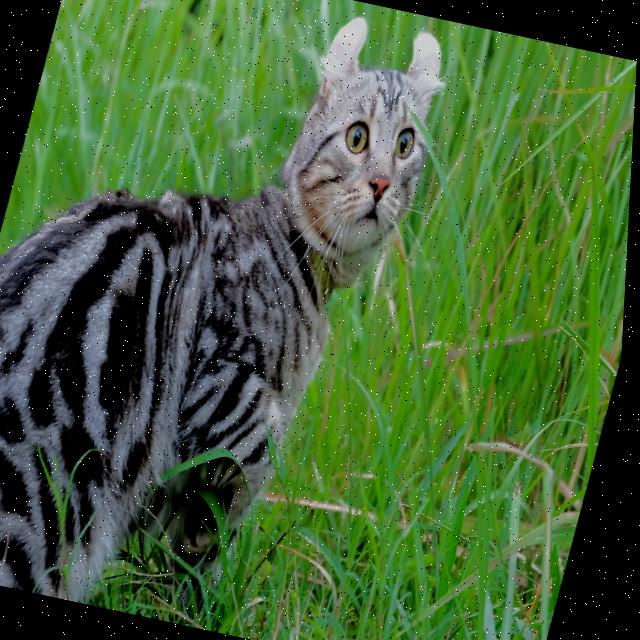American Curl: (0, 0, 461, 640)
